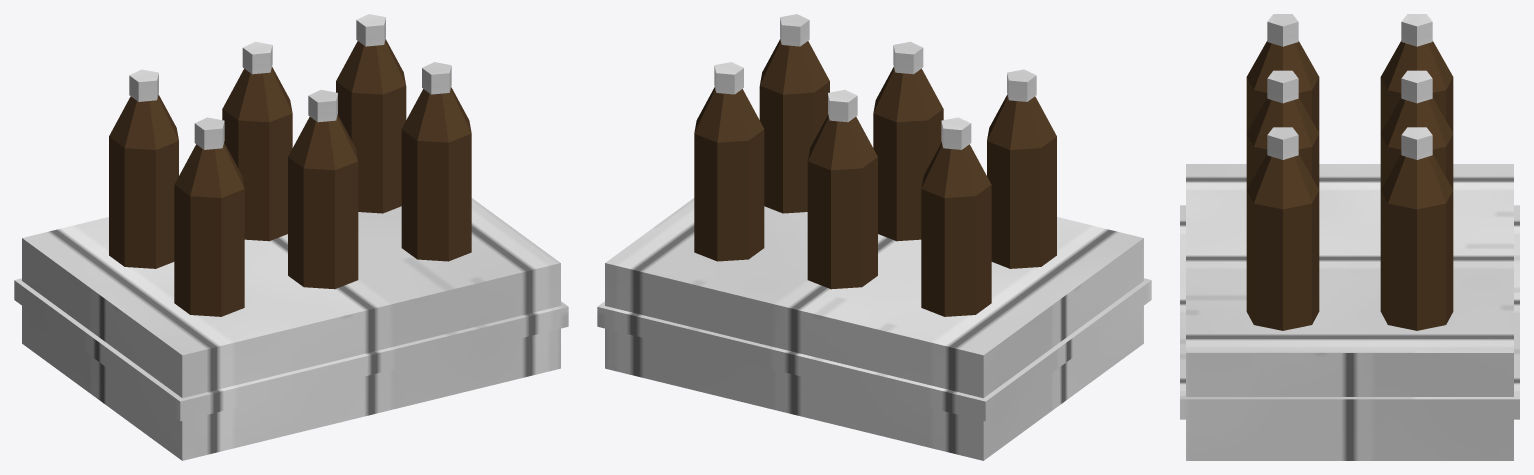
The model's file is food_beer.obj.
The picture shows the model from 3 angles, left to right: view 1: azimuth 30°, elevation 25°; view 2: azimuth 150°, elevation 25°; view 3: azimuth 270°, elevation 25°; orthographic projection. The views are drawn at different scales.
Parts seen in each view (by area): view 1: food_beer; view 2: food_beer; view 3: food_beer.
Part boxes in pixels (x1,y1,x2,y2): food_beer: [14, 14, 568, 460]; food_beer: [597, 14, 1151, 460]; food_beer: [1180, 14, 1519, 460].
Size of the model in its own units: 0.616 by 0.43 by 0.456.
